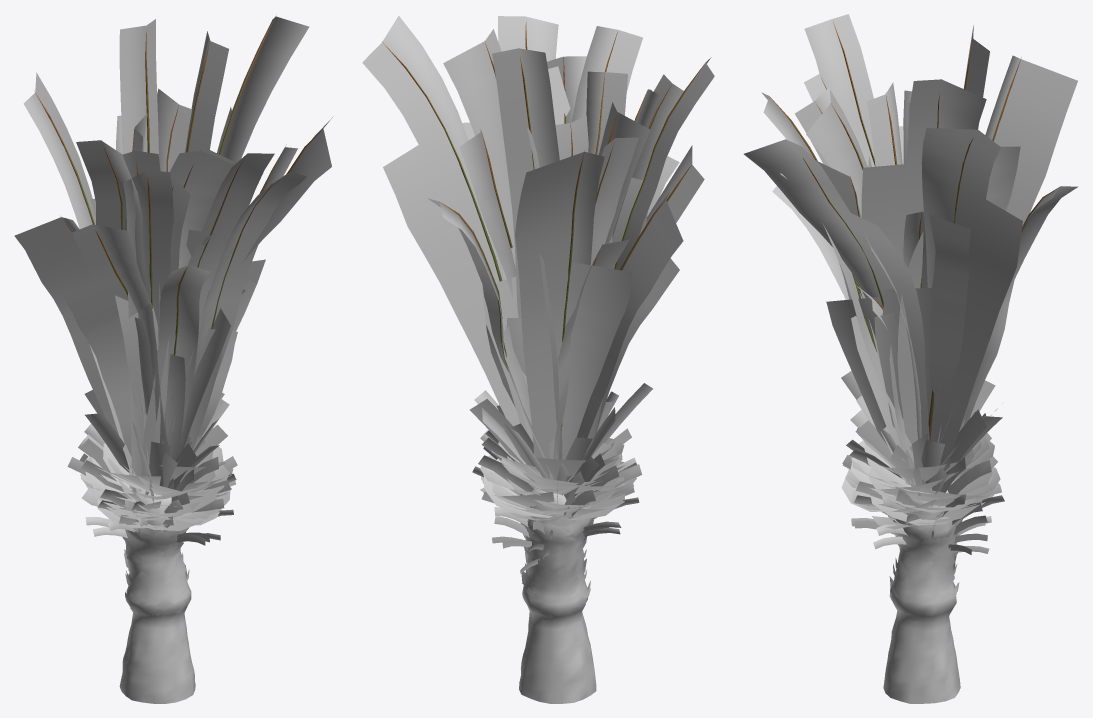
File: Plant3_3_L0.fbx
3 views of the same model, side by side, from view 1: azimuth 30°, elevation 25°; view 2: azimuth 150°, elevation 25°; view 3: azimuth 270°, elevation 25° (orthographic). The views are drawn at different scales.
Visible parts, largest first — view 1: polySurface43; view 2: polySurface43; view 3: polySurface43.
Part boxes in pixels (x1=…): polySurface43: x1=14, y1=16, x2=332, y2=703; polySurface43: x1=362, y1=16, x2=714, y2=703; polySurface43: x1=744, y1=14, x2=1078, y2=703.
Bounding box in the file's own units: 262 × 560 × 259.
